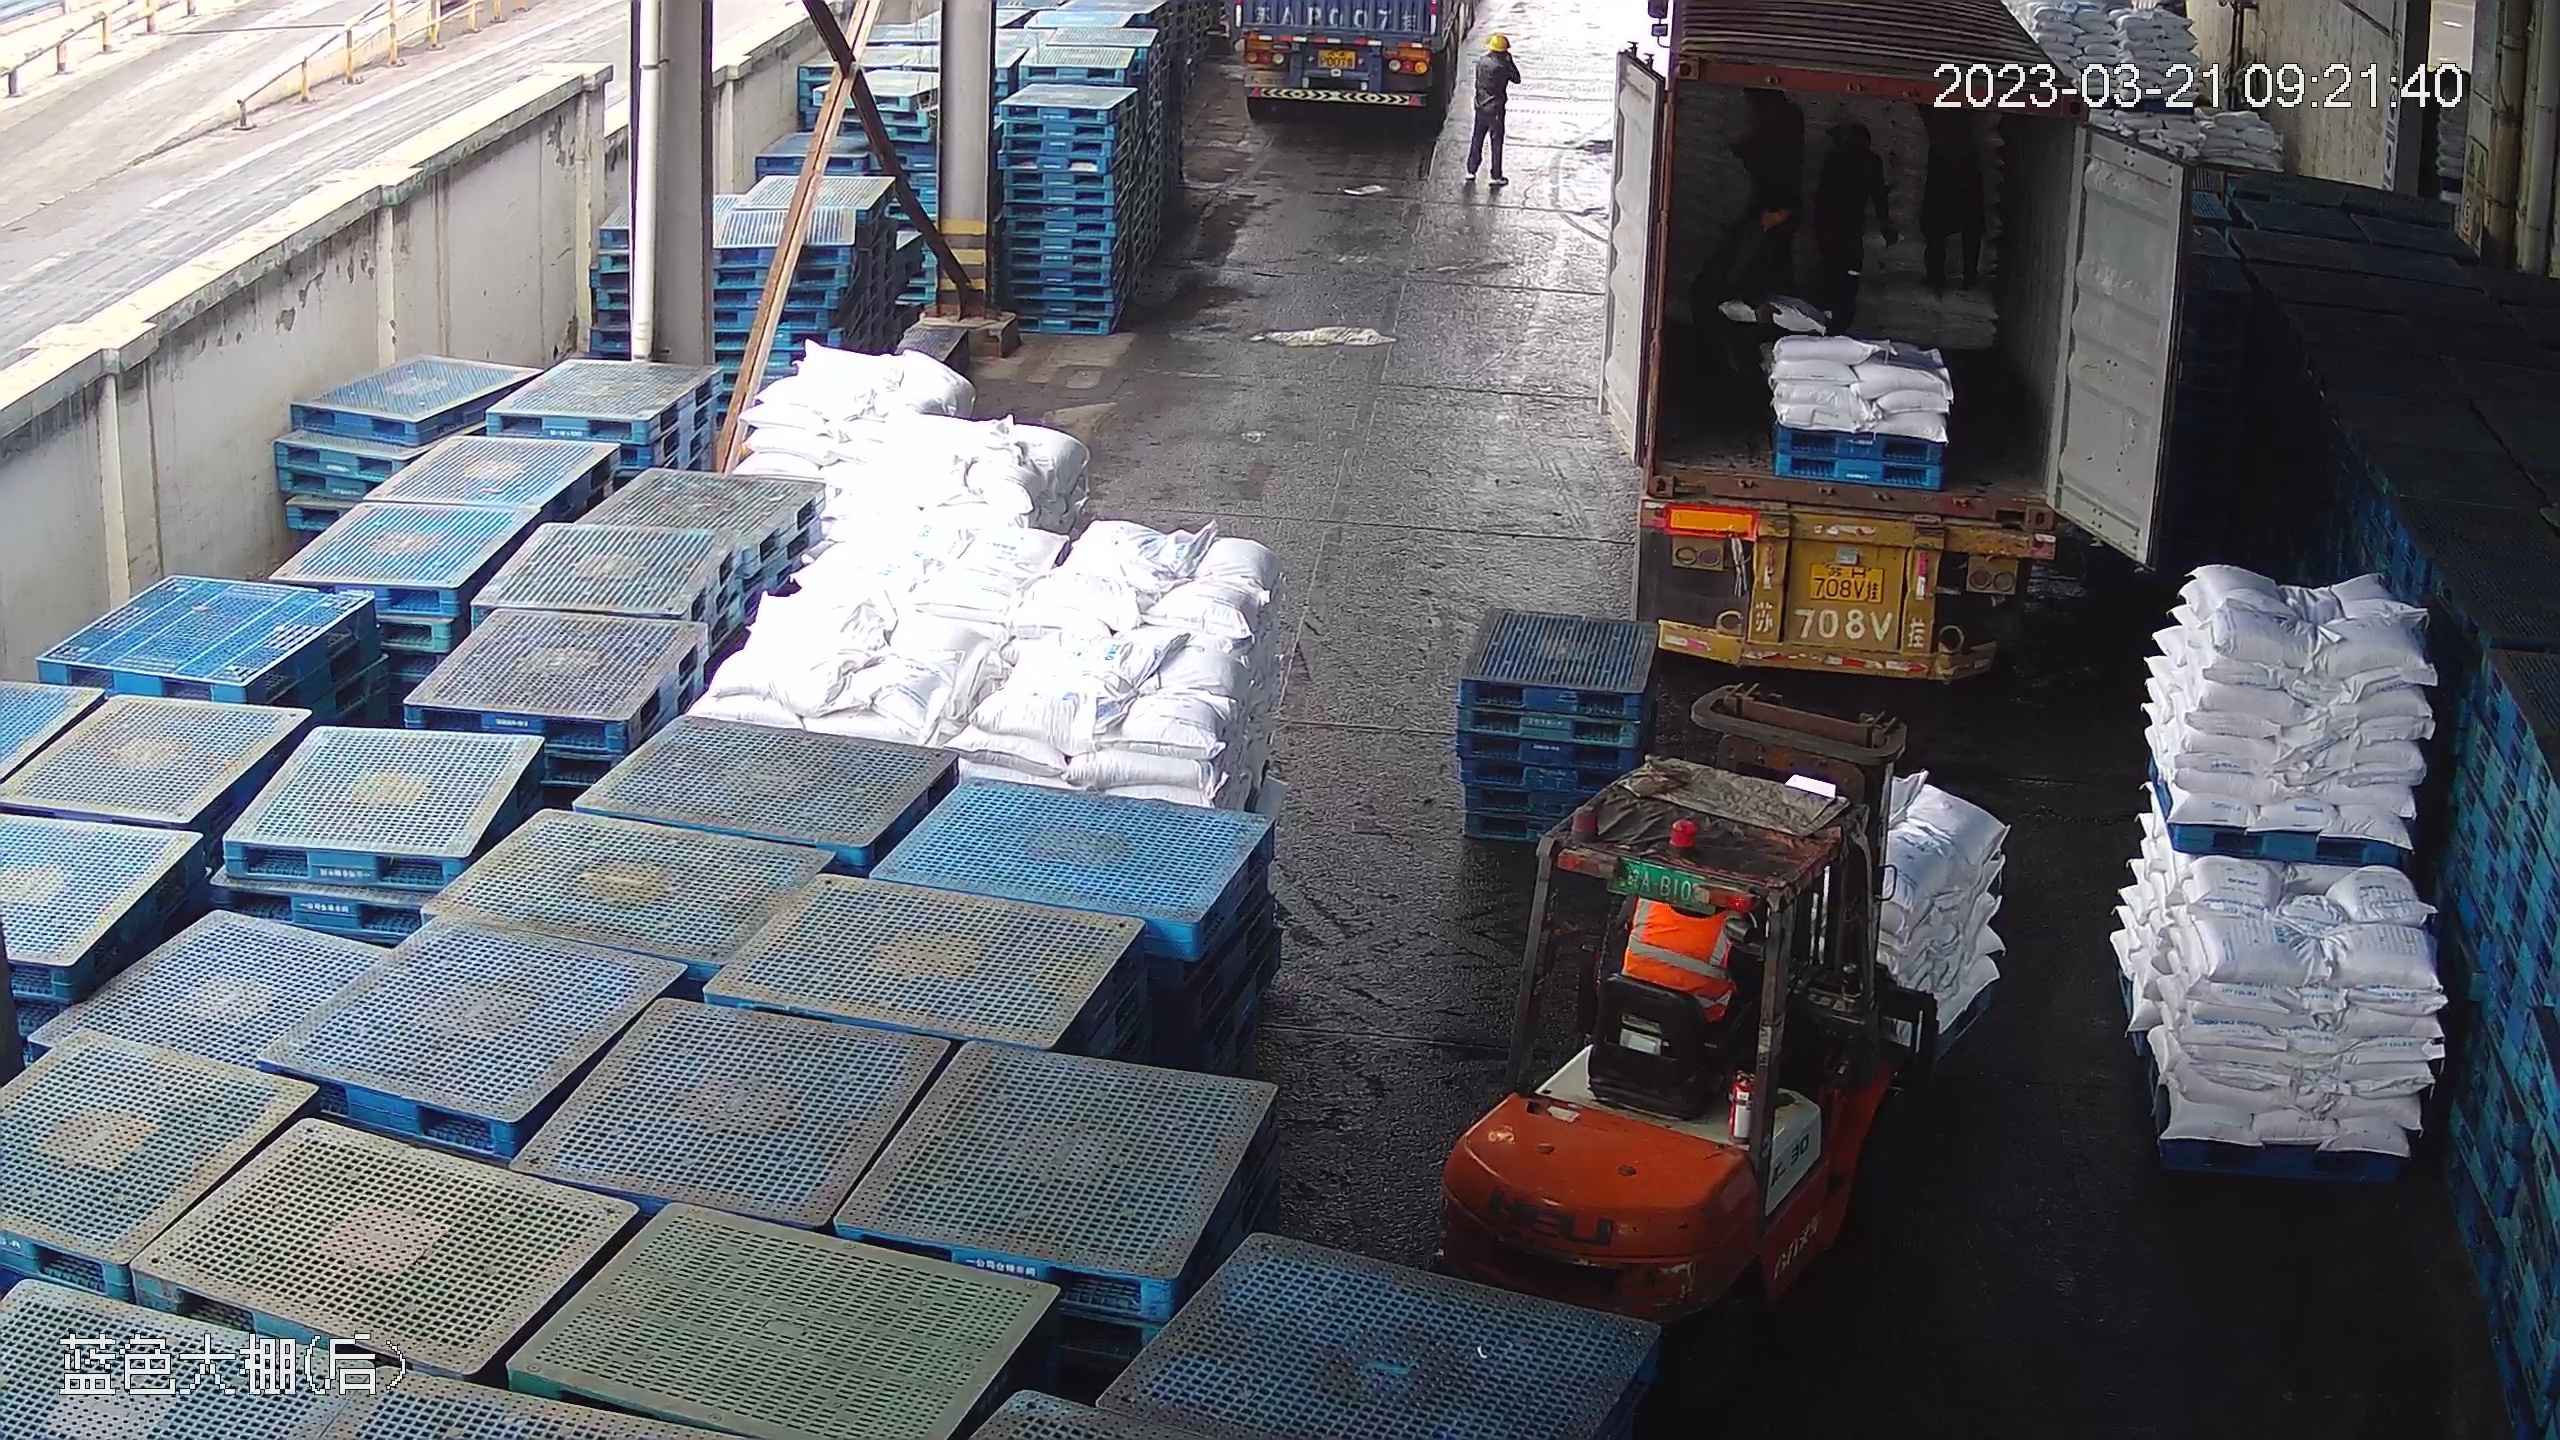head: (1472, 28, 1522, 82)
helmet: (1487, 28, 1513, 48)
people: (1682, 173, 1794, 429), (1800, 112, 1877, 331), (1914, 101, 1988, 298), (1462, 25, 1523, 192)
truck: (1602, 1, 2114, 686)
